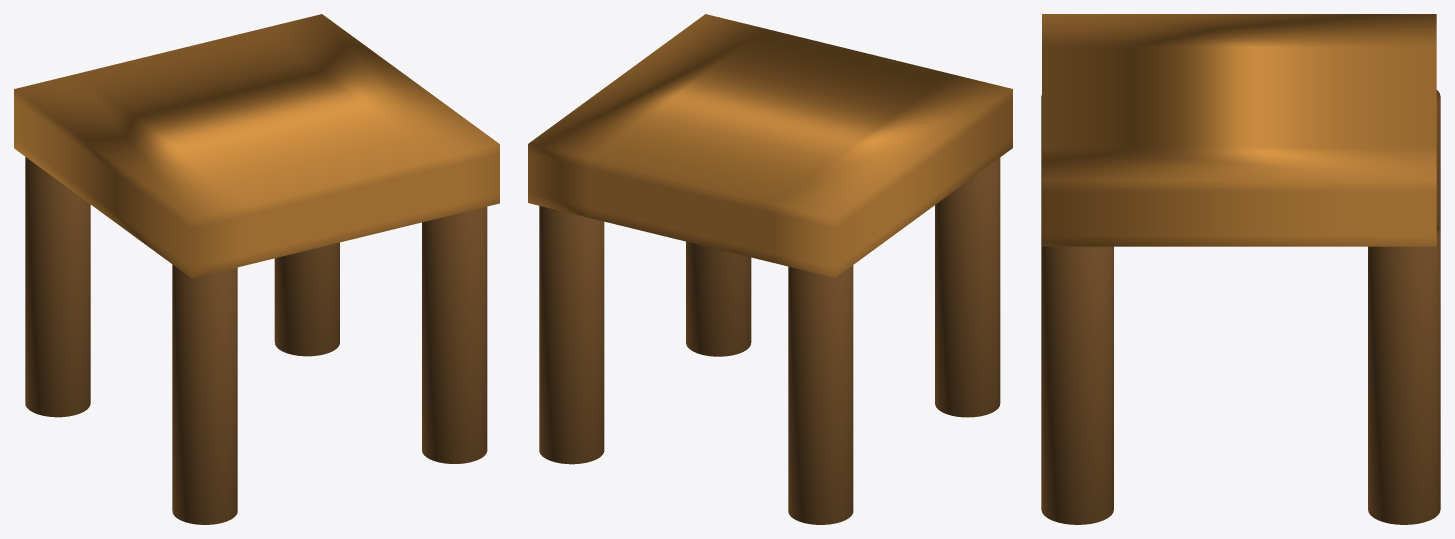
File: Seat.fbx
3 views of the same model, side by side, from view 1: azimuth 30°, elevation 25°; view 2: azimuth 150°, elevation 25°; view 3: azimuth 270°, elevation 25° (orthographic). The views are drawn at different scales.
Visible parts, largest first — view 1: Cylinder.002; view 2: Cylinder.002; view 3: Cylinder.002.
Part boxes in pixels (<box>): Cylinder.002: <box>14,14,499,524</box>; Cylinder.002: <box>528,14,1012,524</box>; Cylinder.002: <box>1041,14,1440,524</box>.
Size of the model in its own units: 274 by 264 by 277.
